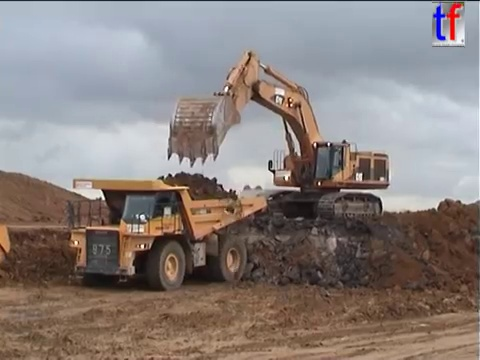excavator: (165, 47, 394, 227)
truck: (65, 176, 268, 292), (236, 178, 344, 223), (1, 222, 13, 266)
